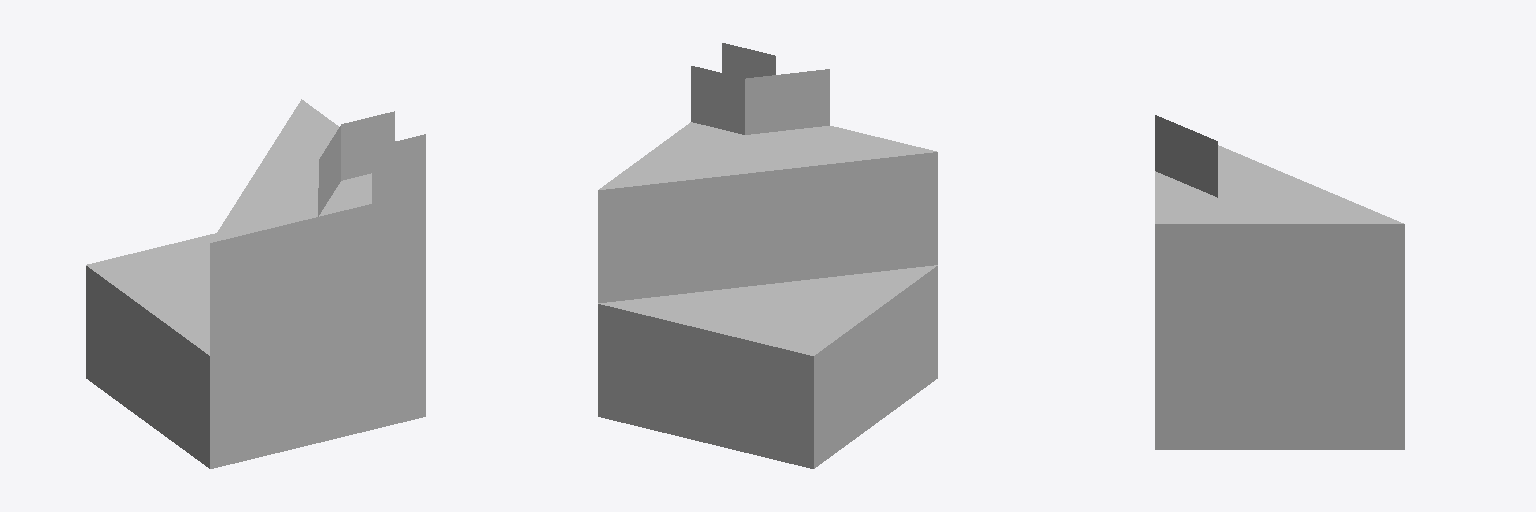
File: blushrock_2u.obj
3 renders of one model, left to right at view 1: azimuth 30°, elevation 25°; view 2: azimuth 150°, elevation 25°; view 3: azimuth 270°, elevation 25°, orthographic.
Size of the model in its own units: 1 by 1.25 by 1.